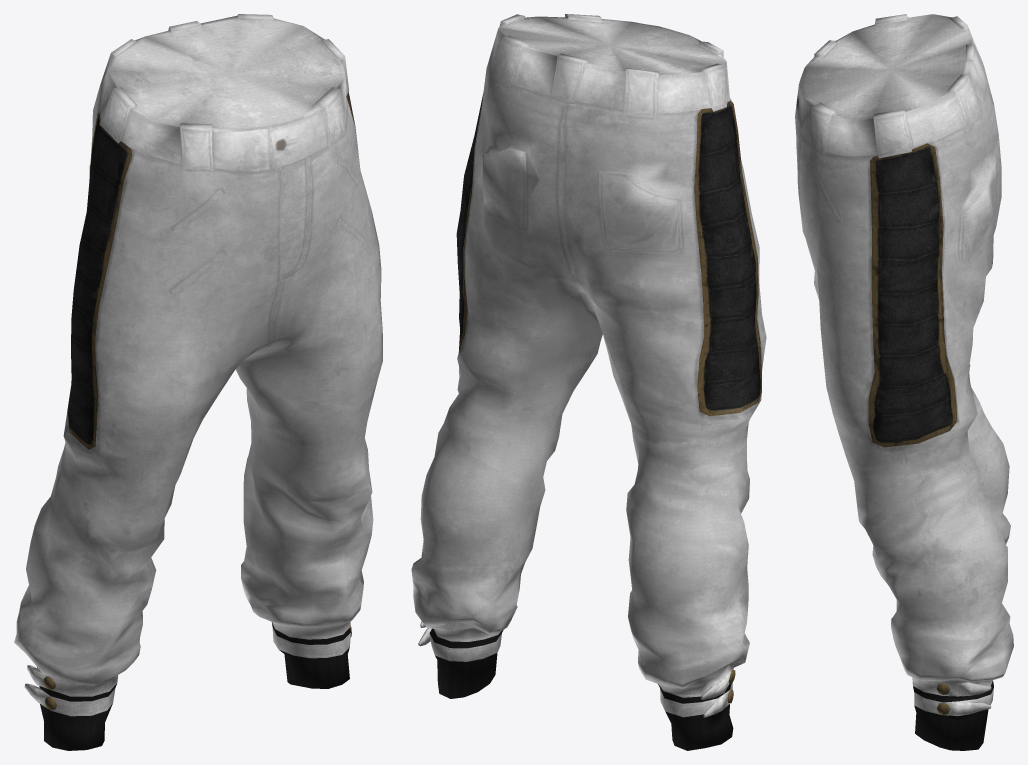
Rendered from SurvivorMale_Legs_Pants_DropCrotch_LOD0.glb.
The picture shows the model from 3 angles, left to right: view 1: azimuth 30°, elevation 25°; view 2: azimuth 150°, elevation 25°; view 3: azimuth 270°, elevation 25°; orthographic projection. The views are drawn at different scales.
Parts seen in each view (by area): view 1: Hoodie; view 2: Hoodie; view 3: Hoodie.
Part boxes in pixels (box(x1,y1,x2,y2)): Hoodie: box(14, 14, 382, 750); Hoodie: box(411, 14, 766, 750); Hoodie: box(795, 14, 1013, 750).
Size of the model in its own units: 0.5037 by 0.9712 by 0.3015.
1 material, 1 textured.
